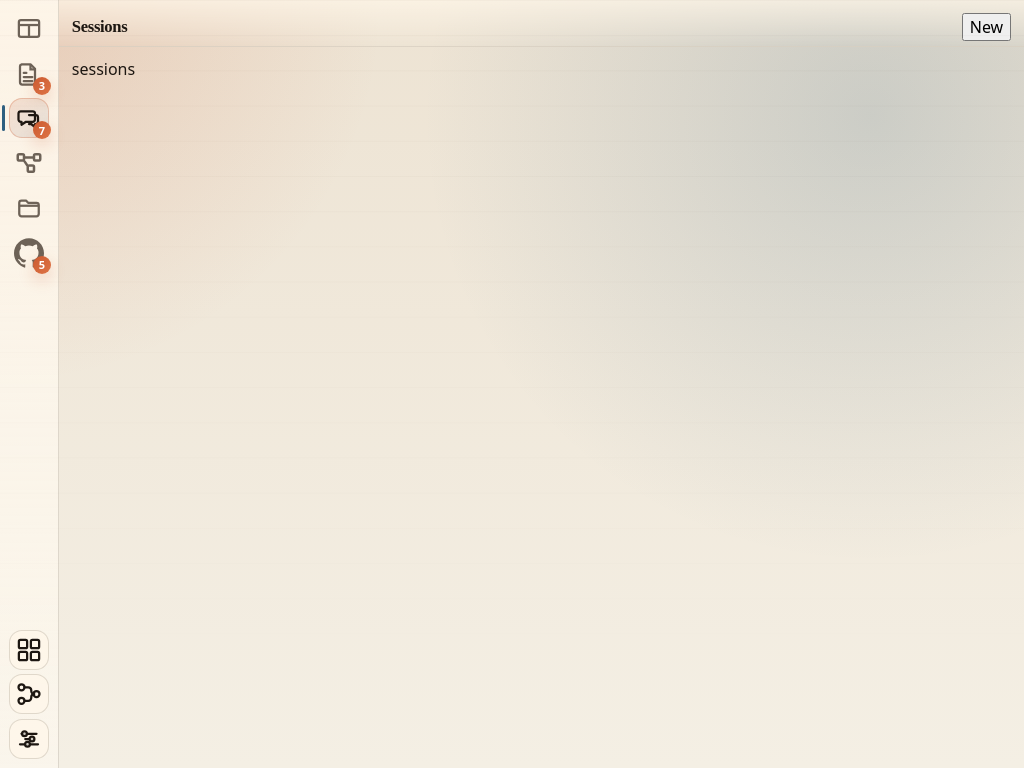
Test: ControlPanelSurface › renders header actions for the active section
Check: the button "New" is shown, box [962,13,1011,41]
Click the button named "Files": (29, 208) [9,188,49,228]
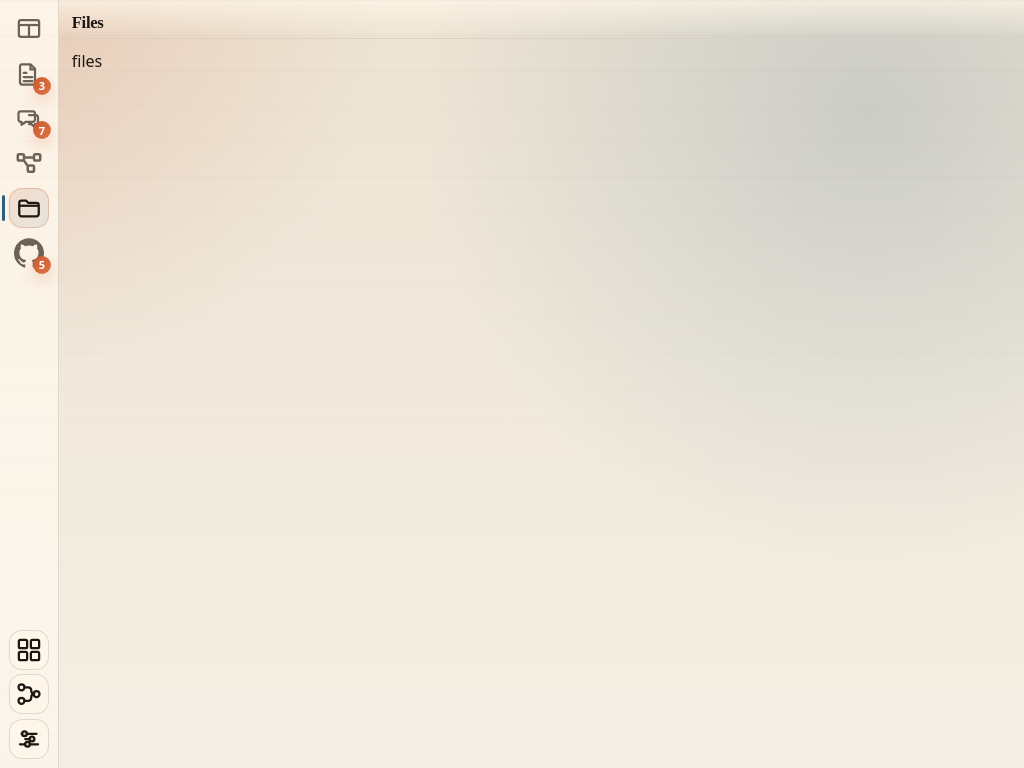
Check: the button "New" is gone
